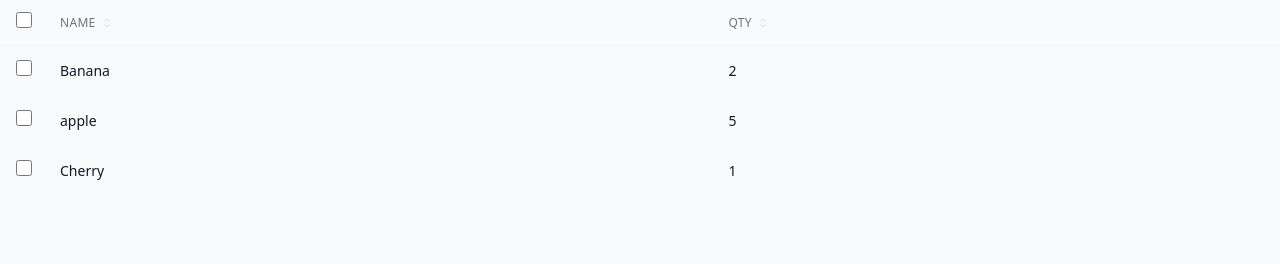
it: DataTable › selects every row when the header checkbox is clicked, and stays checked
This screenshot has width=1280, height=264.
Click the checkbox next to "Name".
click(24, 20)  # box x1=16 y1=12 x2=32 y2=28
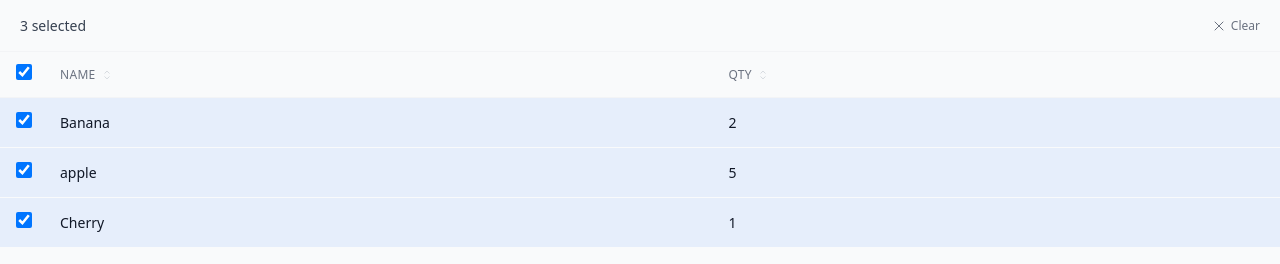
Result: the text "3 selected" is shown at x1=20 y1=16 x2=86 y2=36
